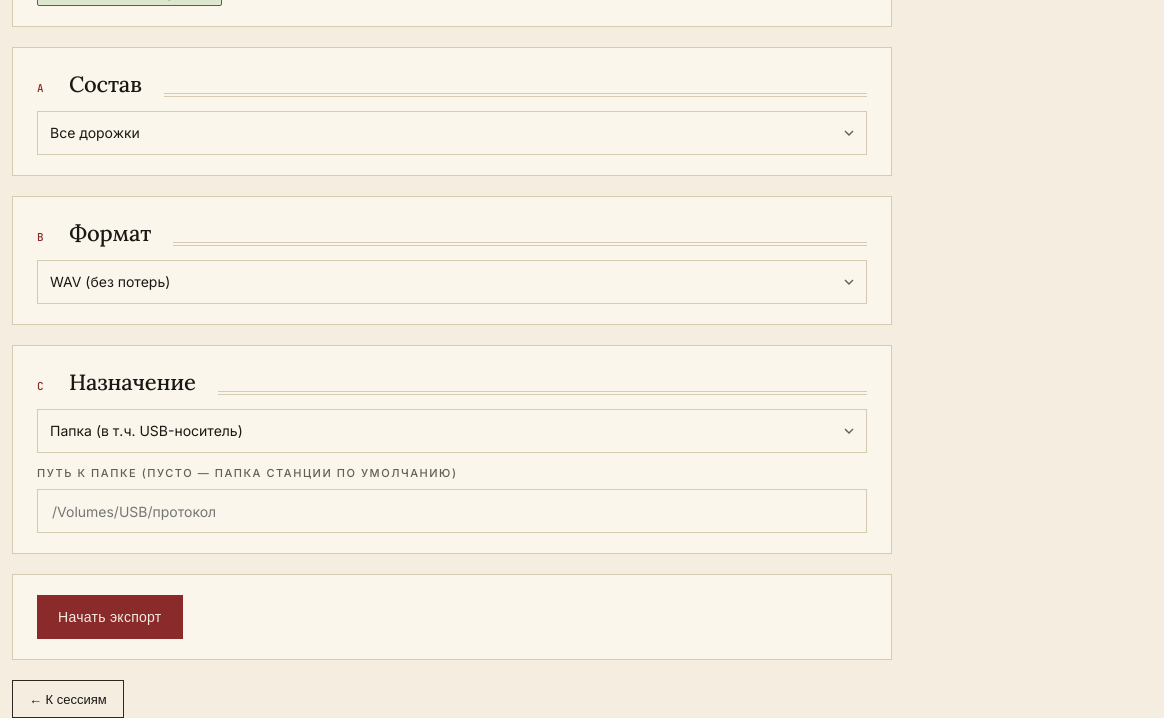
Test case: ExportScreen › показывает ошибку сборки и возвращает к форме
(page scrolled)
What coordinates should you click on to do the following:
click the button "Начать экспорт"
I would click on:
 (110, 617)
Its box is [37, 595, 183, 639].
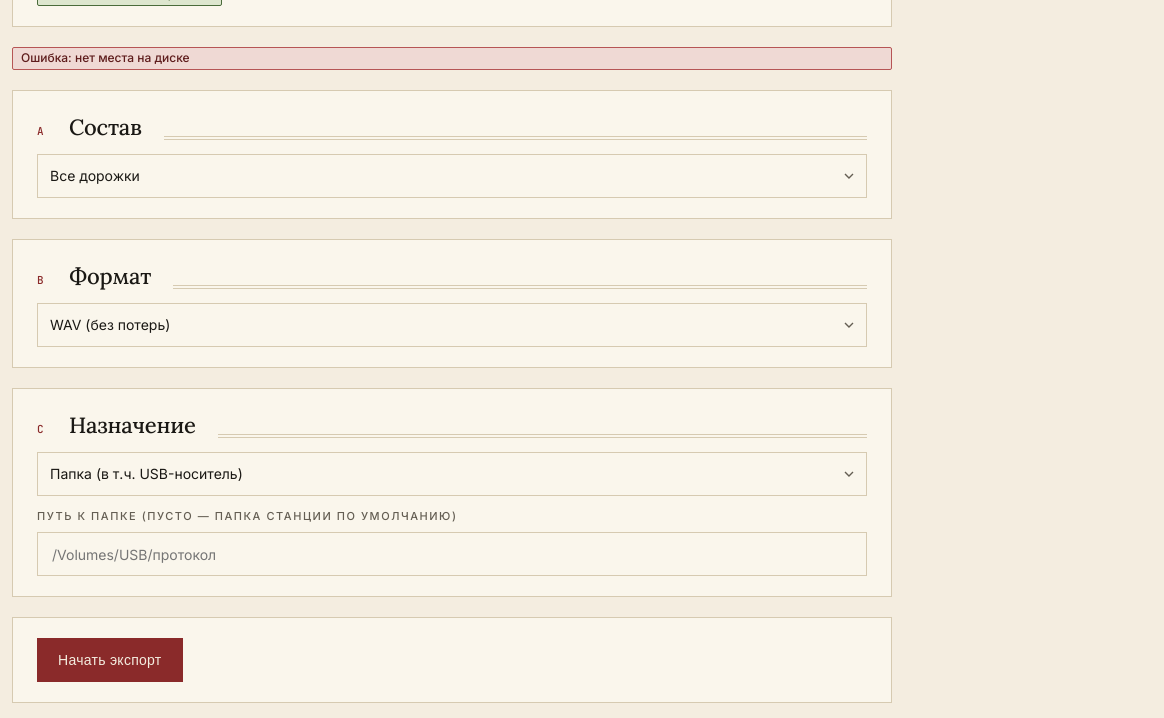
Expected: the text "Начать экспорт" is shown, [58, 652, 162, 668]
Expected: the text "Ошибка: нет места на диске" is shown, [12, 47, 892, 70]
